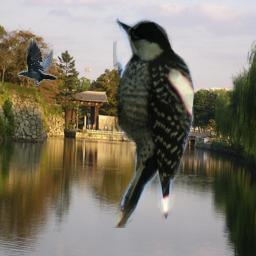Crow: (17, 37, 57, 86)
Woodpecker: (113, 18, 195, 228)
